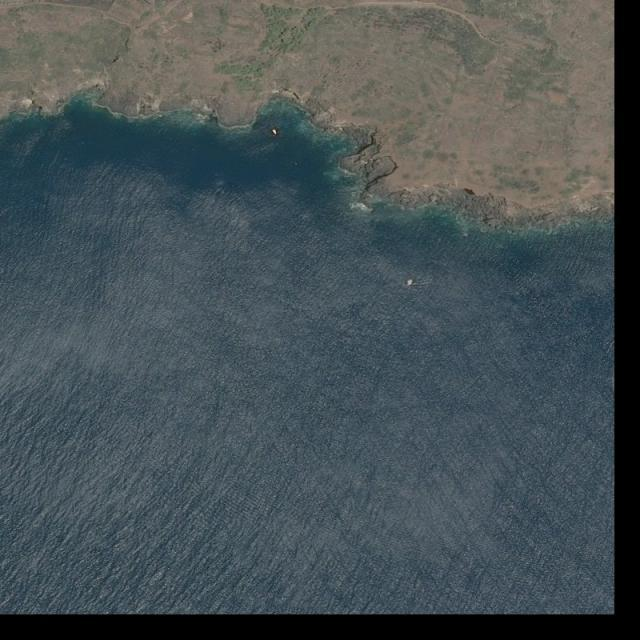ship: (406, 278, 416, 287), (272, 129, 278, 136)
